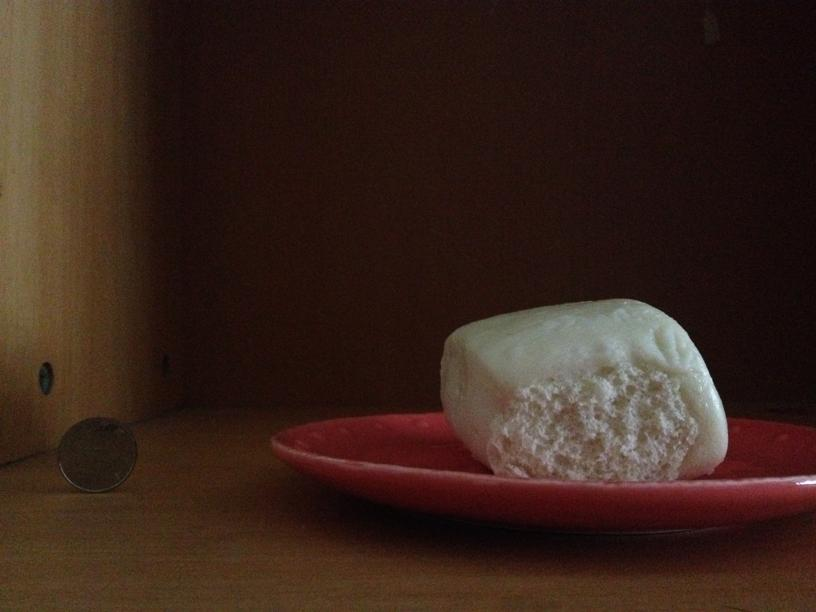bun: (443, 295, 727, 480)
coin: (55, 417, 136, 491)
